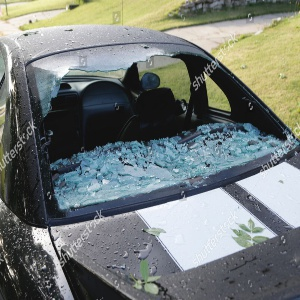rear_windshield_glass: (45, 49, 193, 192)
